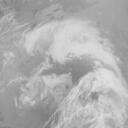cyclone: (42, 29, 111, 100)
